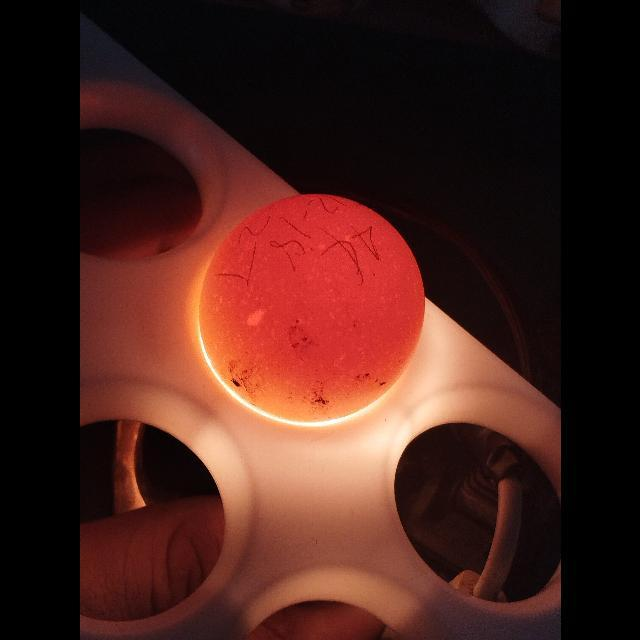Infertile: (185, 180, 422, 430)
